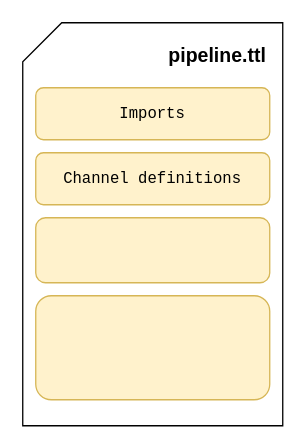
This 306x448 diagram has some shape labels left out. Each missing label, with the centre of its shape:
"Processors" goes at point (152, 347).
"Runners" goes at point (152, 249).
